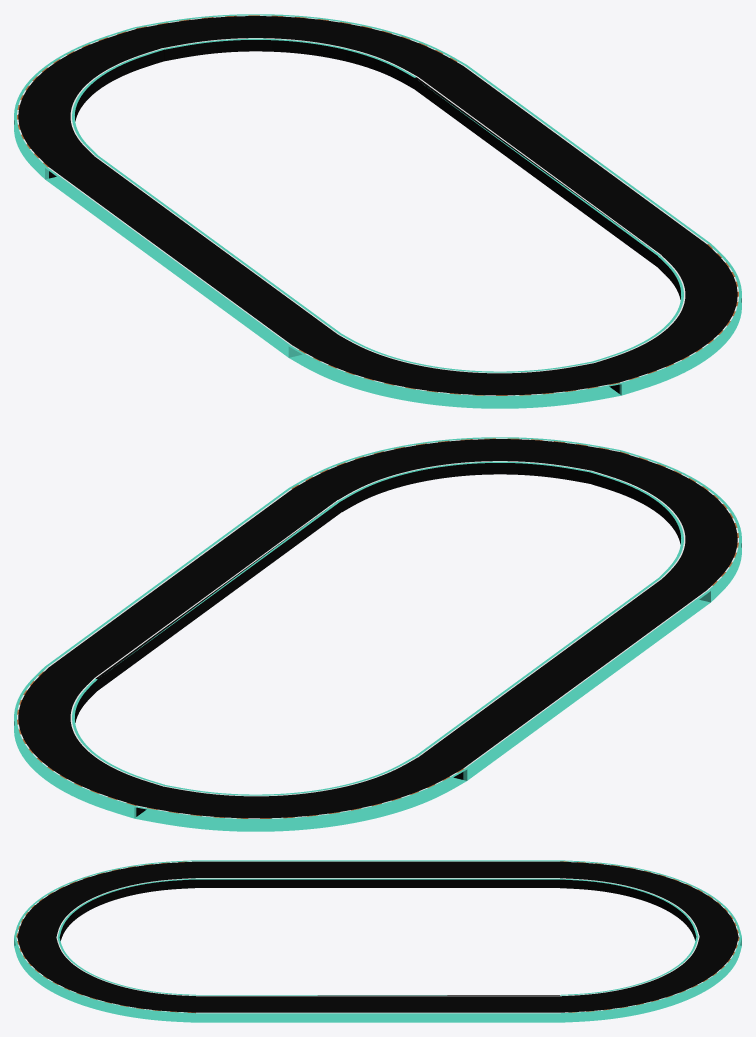
File: Pista2.obj
3 views of the same model, one above another, from view 1: azimuth 30°, elevation 25°; view 2: azimuth 150°, elevation 25°; view 3: azimuth 270°, elevation 25° (orthographic). The views are drawn at different scales.
Visible parts, largest first — view 1: OvalTrack; view 2: OvalTrack; view 3: OvalTrack.
Part boxes in pixels (x1,y1,x2,y2): OvalTrack: (14,14,741,408); OvalTrack: (14,437,741,831); OvalTrack: (14,860,741,1022).
Size of the model in its own units: 48 by 1.25 by 96.
Materials: 4 (3 with a texture image).
